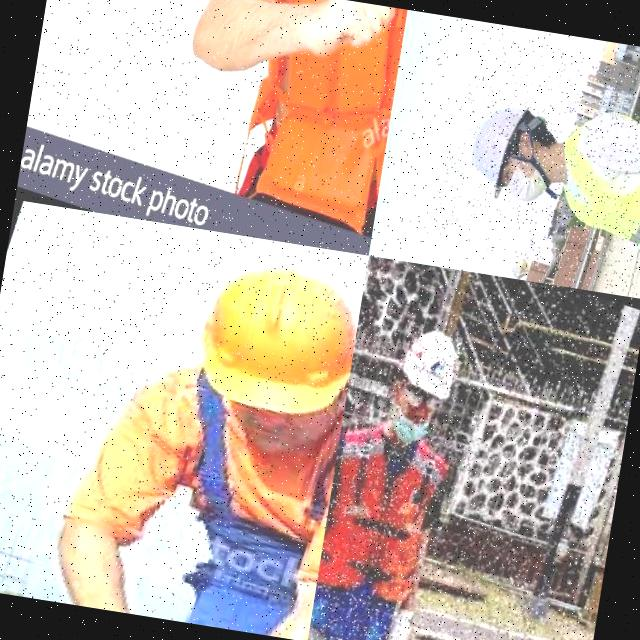helmet: (164, 230, 368, 442), (450, 85, 540, 213), (392, 322, 474, 402)
vest: (187, 0, 407, 163), (307, 419, 458, 640), (537, 98, 640, 264)
